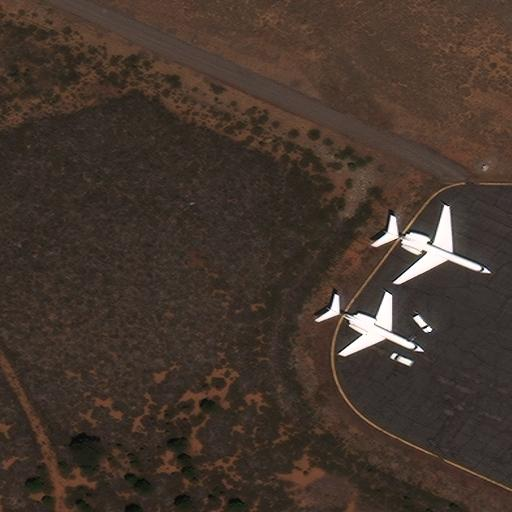Medium Civil Transport: (383, 206, 490, 285), (326, 295, 424, 357)
